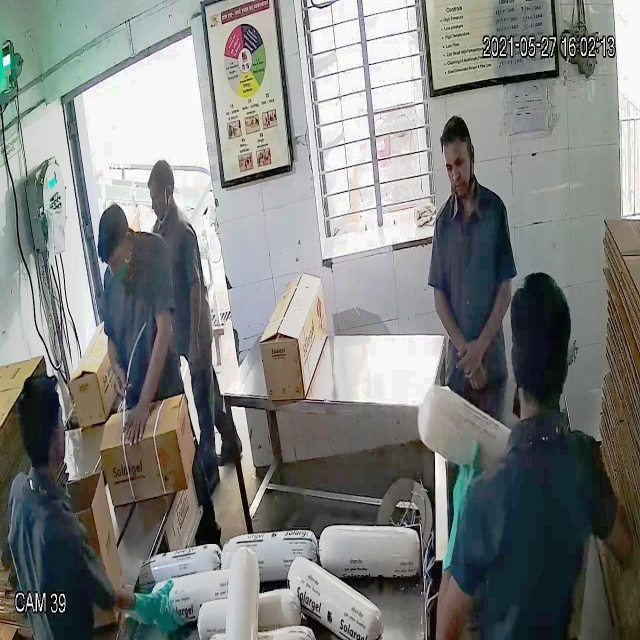Sin_gafas: (440, 148, 475, 182)
